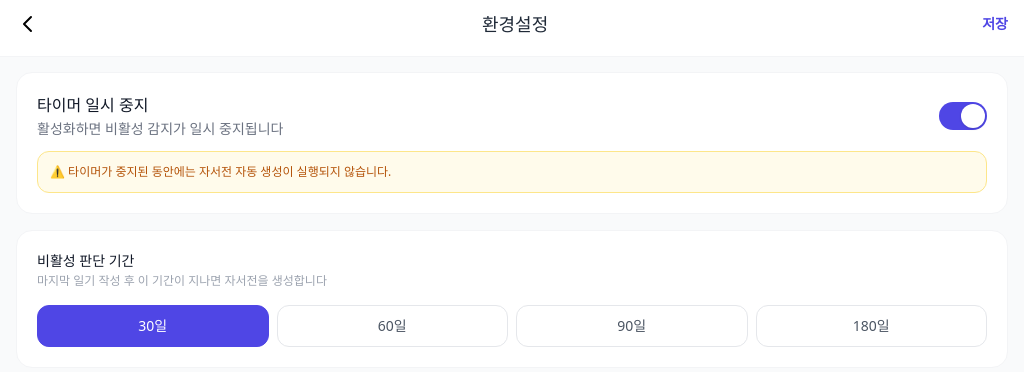
Test: Settings Preferences Flow - Integration Test › WarningBanner - timer_status=PAUSED condition › should hide WarningBanner after toggle is turned OFF
The image size is (1024, 372).
Expected: the message "⚠️ 타이머가 중지된 동안에는 자서전 자동 생성이 실행되지 않습니다." is shown, [37, 151, 987, 193]
toggle OFF
Click the checkbox with test id "timer-pause-toggle". click: {"x": 963, "y": 116}
box: [939, 102, 987, 130]
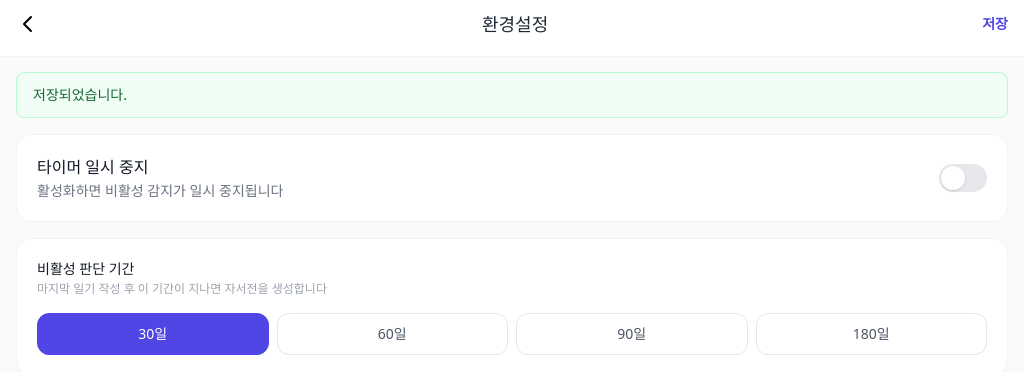
Now the message with test id "timer-pause-warning-banner" is gone
